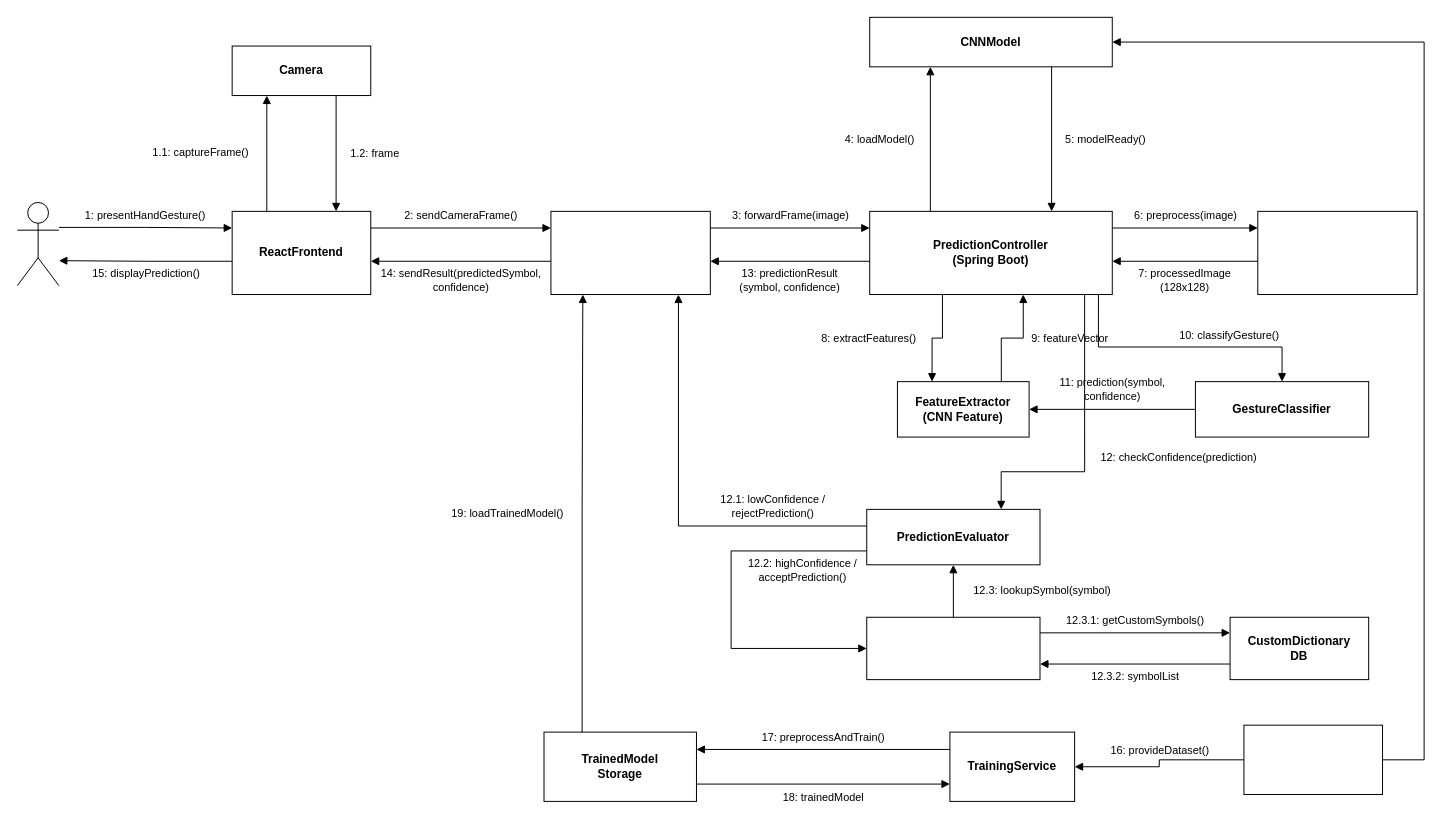
This 1449x821 diagram has some shape labels left out. The box of each missing label's shape, as (x1, y1, x2, y2) in pixels:
:User: (16, 201, 59, 286)
CustomDictionary Manager: (866, 616, 1040, 680)
DatasetManager (ASL-HG Dataset): (1243, 724, 1383, 794)
ImagePreprocessor: (1257, 210, 1417, 295)
WebSocketService: (550, 210, 710, 295)
